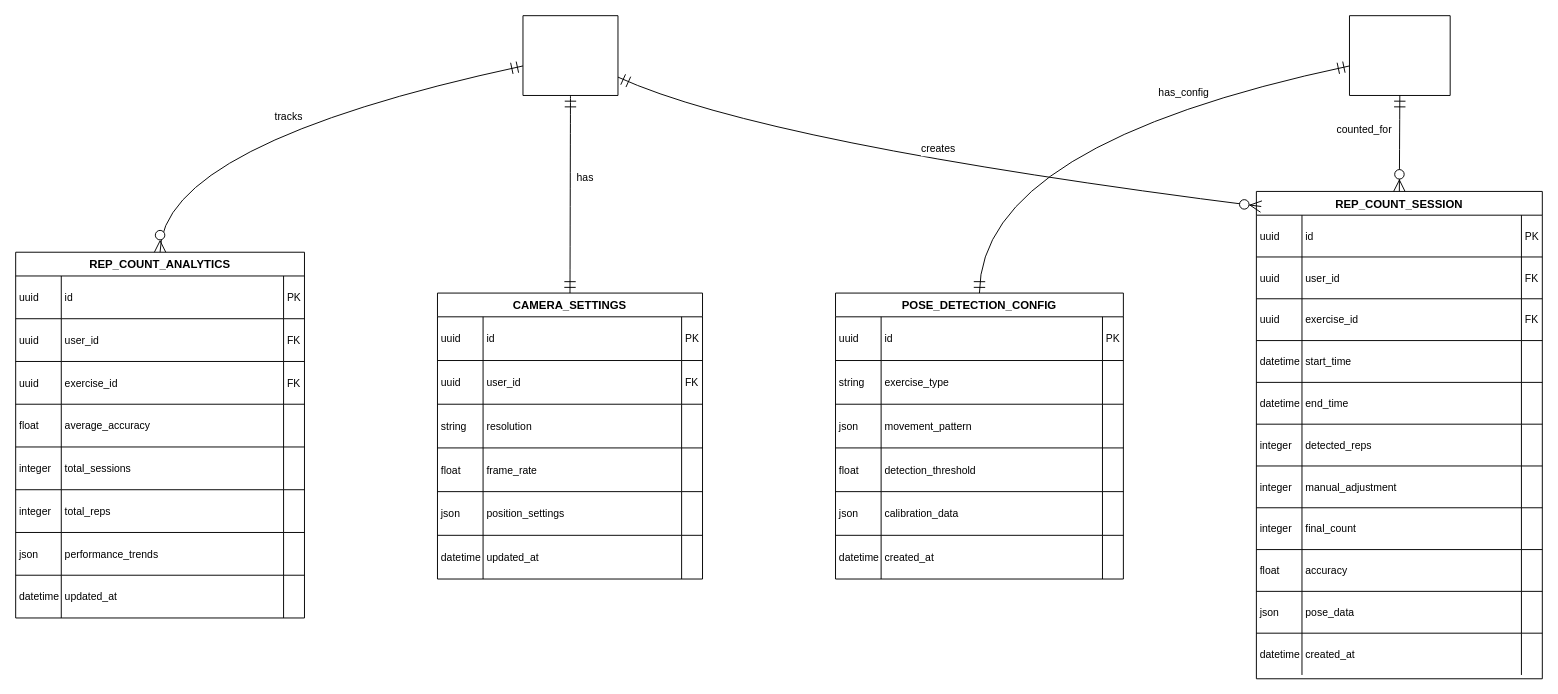
This 1558x694 diagram has some shape labels left out. Each missing label, with the centre of its shape:
"EXERCISE" goes at (1399,55).
"USER" goes at (570,55).
